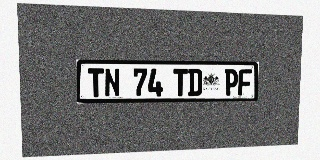4: (148, 68, 163, 97)
7: (132, 68, 147, 97)
D: (188, 69, 202, 96)
F: (238, 69, 252, 95)
N: (104, 68, 120, 97)
P: (224, 69, 238, 96)
T: (88, 68, 104, 97), (173, 69, 188, 96)
